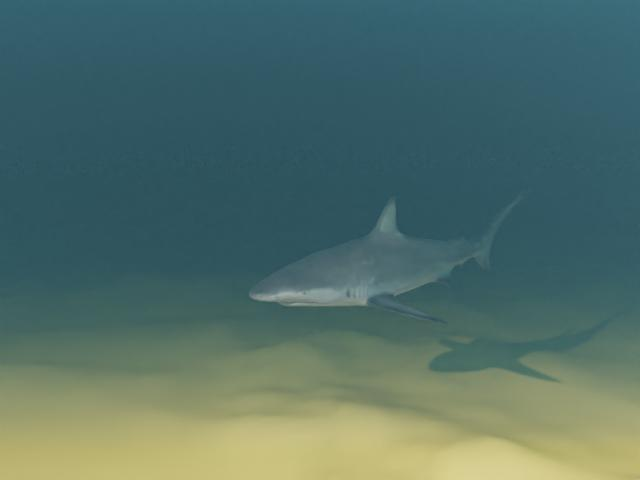Carribean Shark.001: (248, 187, 533, 324)
